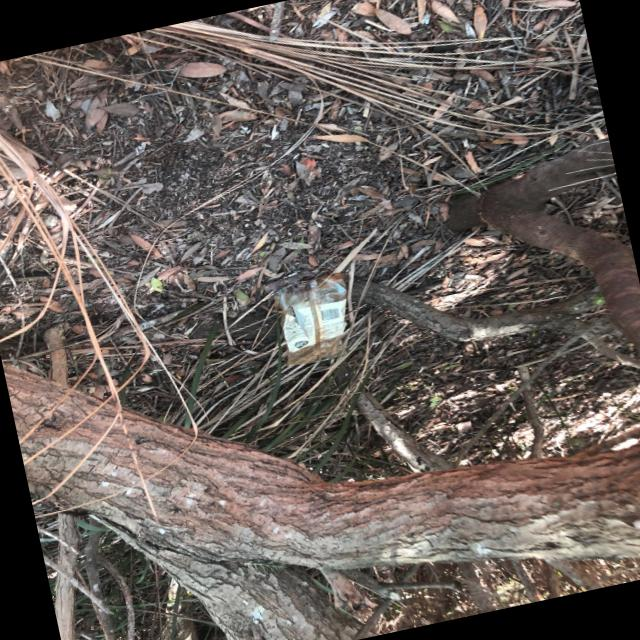less trash: (274, 272, 347, 364)
